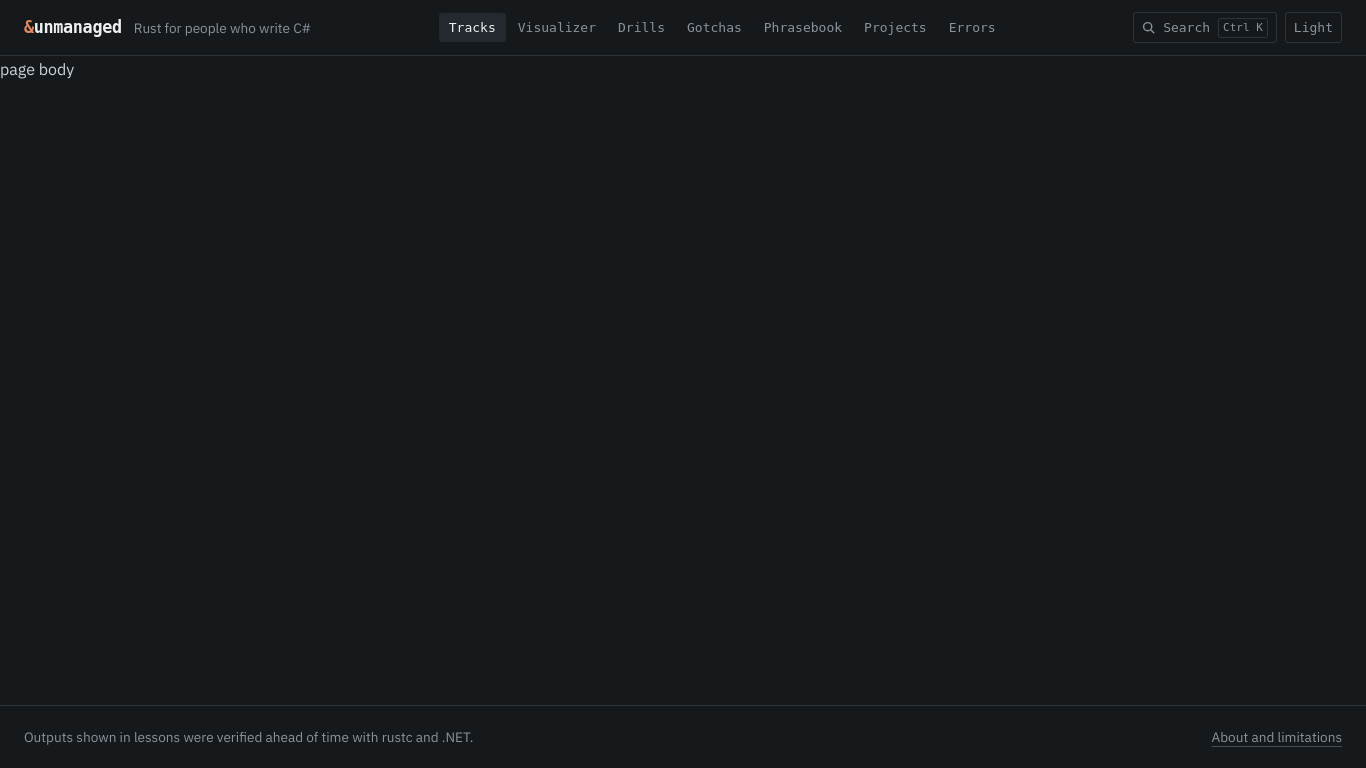
Test: Shell › the theme toggle switches between dark and light and applies it to the document
Click the button with aria-label "Switch to light theme" at [1313, 28], box [1285,12,1342,43]
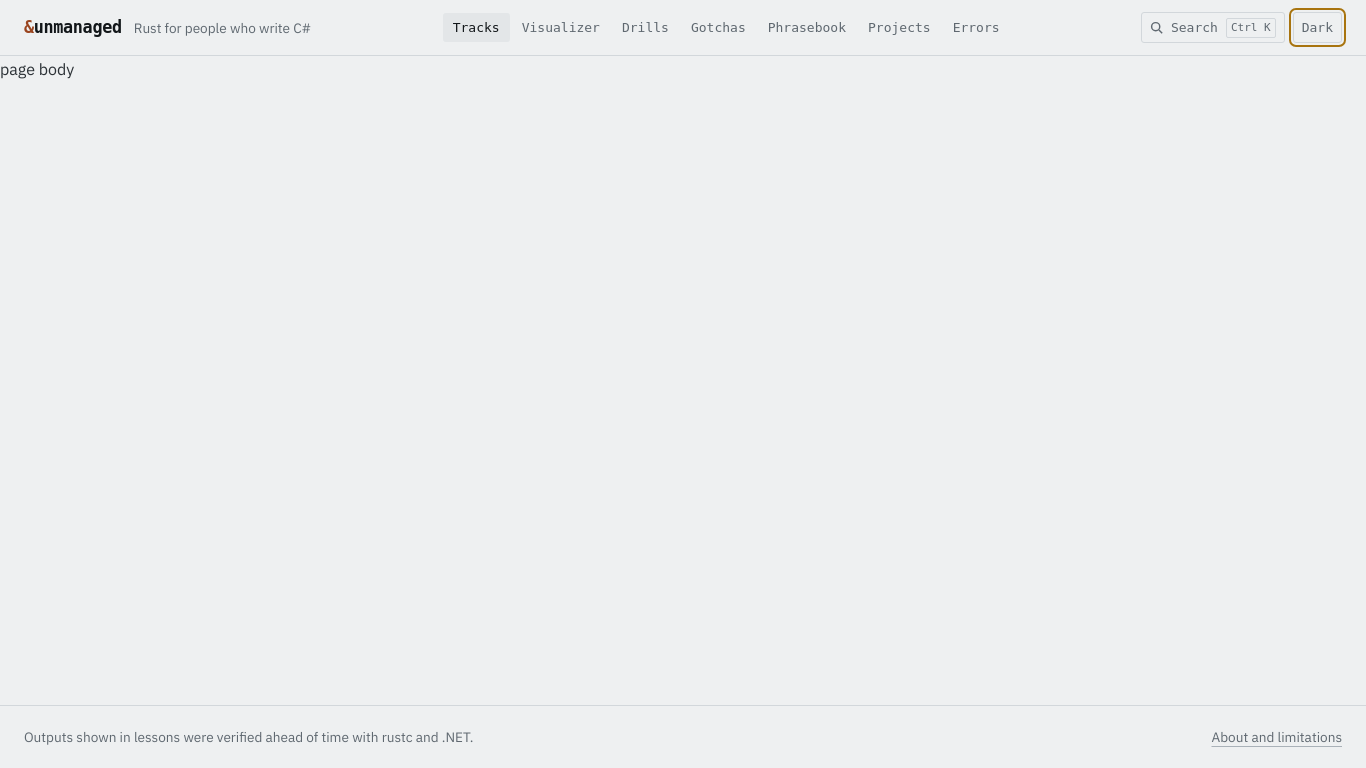
Expected: the button with aria-label "Switch to dark theme" reads "Dark"
Click the button with aria-label "Switch to dark theme" at [1317, 28], box [1293,12,1342,43]
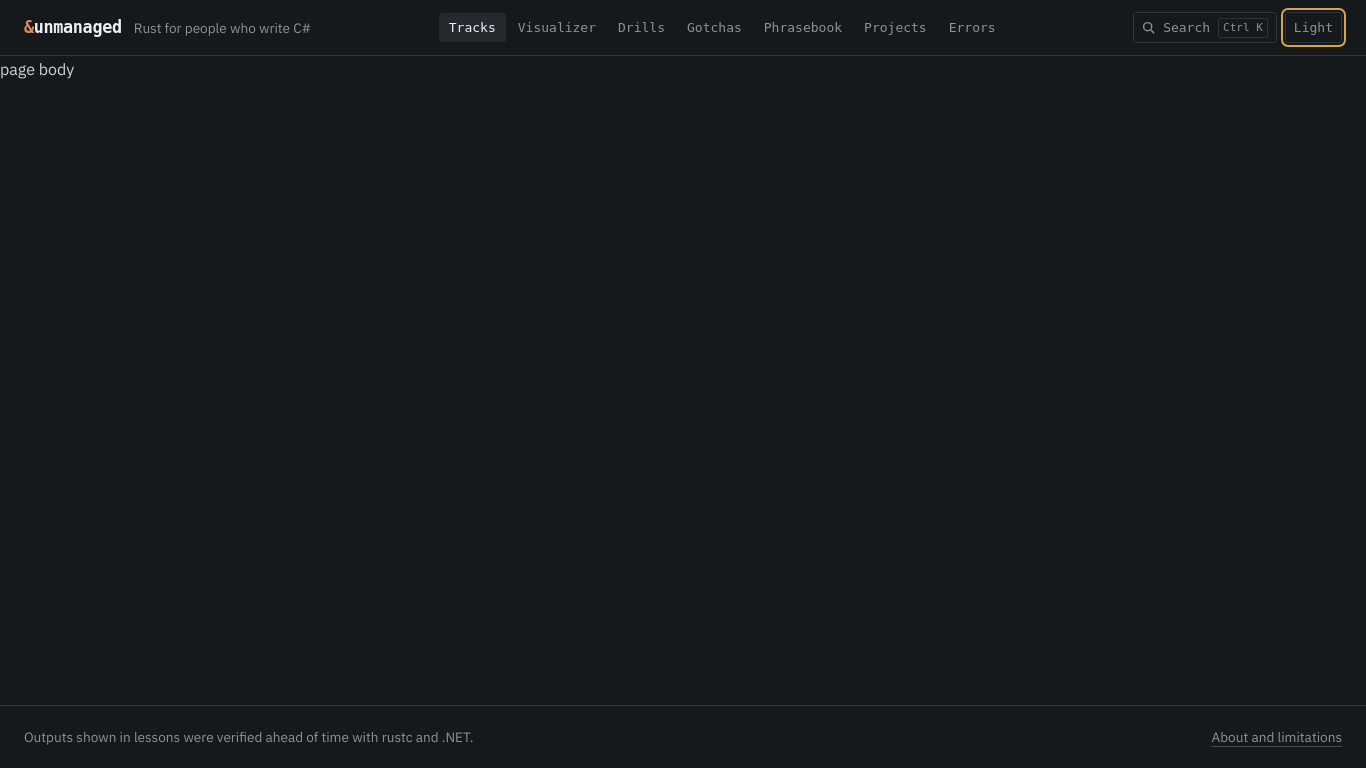
Expected: the button with aria-label "Switch to light theme" reads "Light", [1285,12,1342,43]
